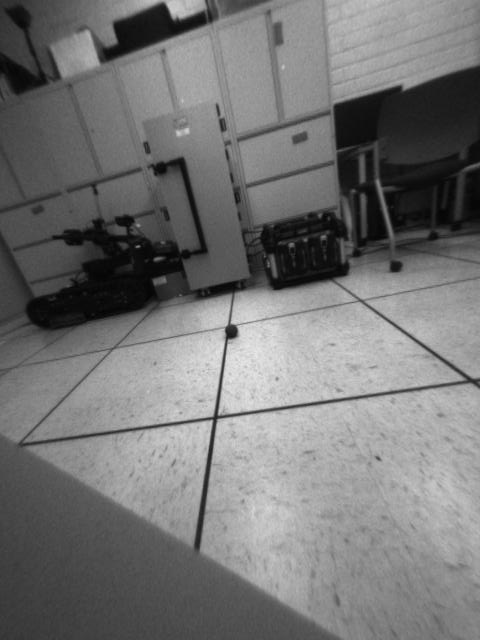dogtoy: (219, 316, 242, 345)
